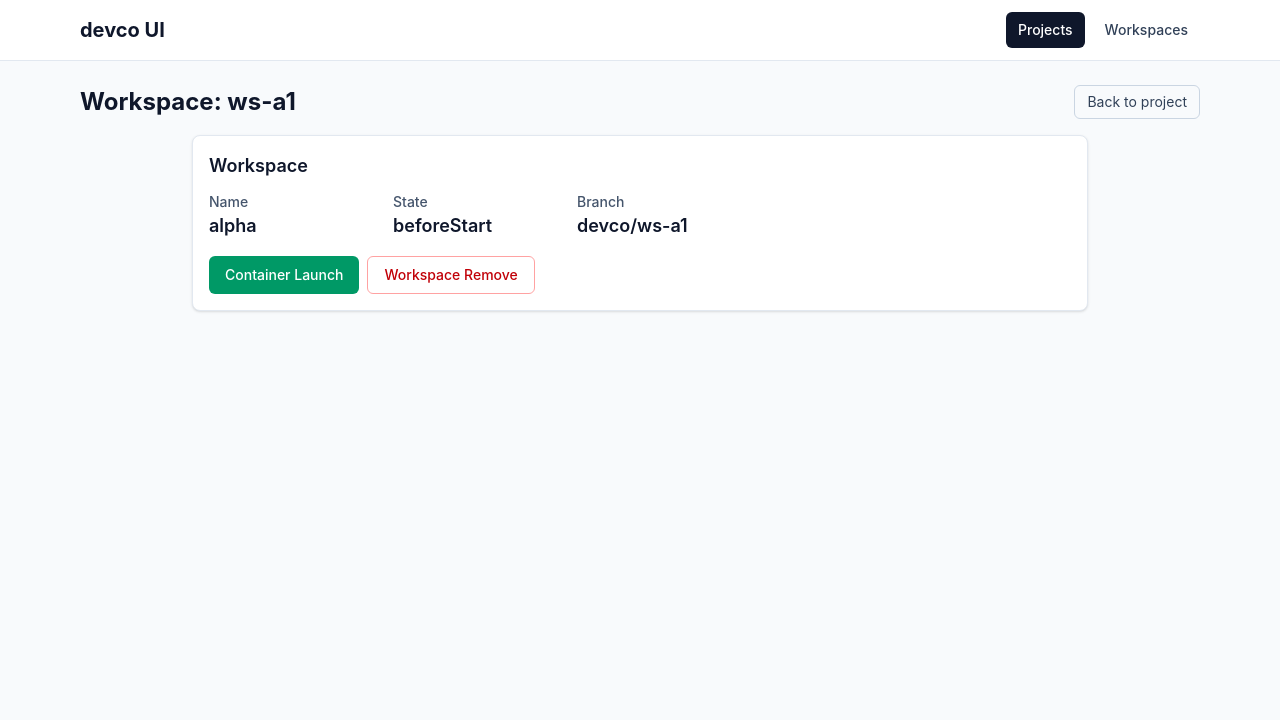
Test: App browser flows › shows confirmation dialog before workspace removal in detail
Expected: the heading "Workspace: ws-a1" is shown, top-left (80, 86), bottom-right (296, 118)
Click the button "Workspace Remove".
click(451, 275)  # box top-left (368, 256), bottom-right (535, 294)
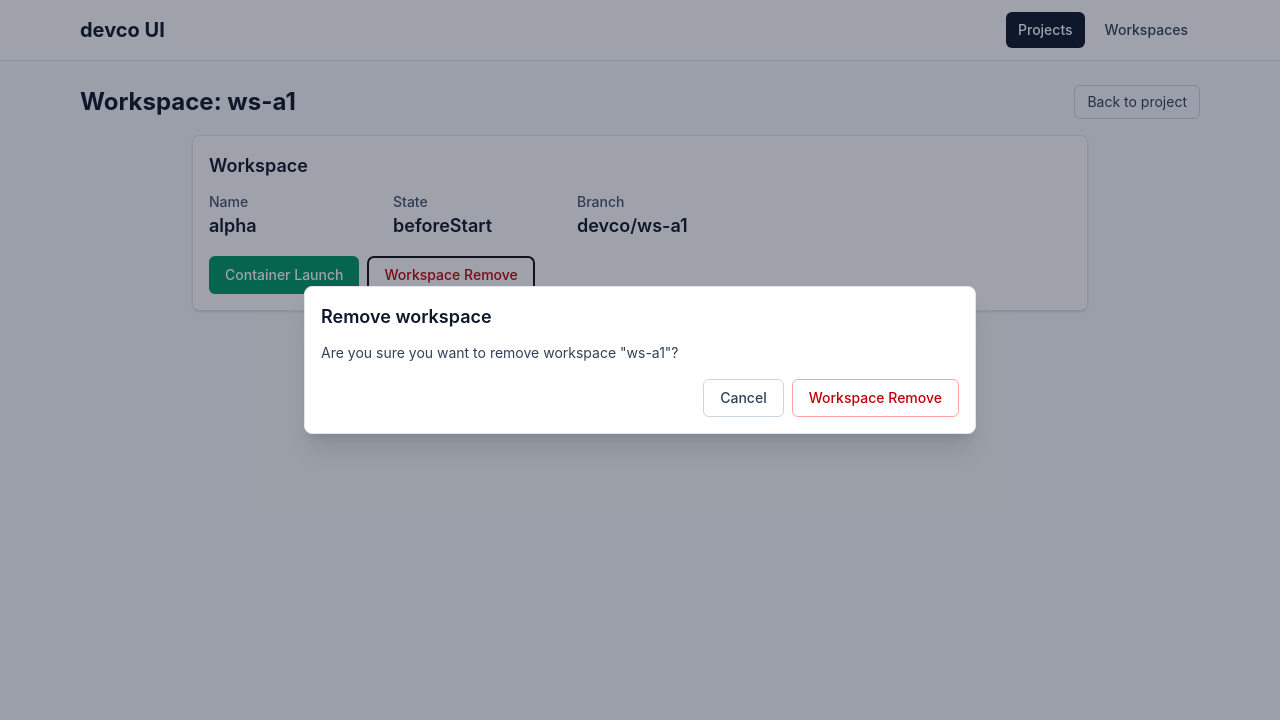
Click the button "Cancel".
click(743, 398)  # box top-left (703, 379), bottom-right (784, 417)
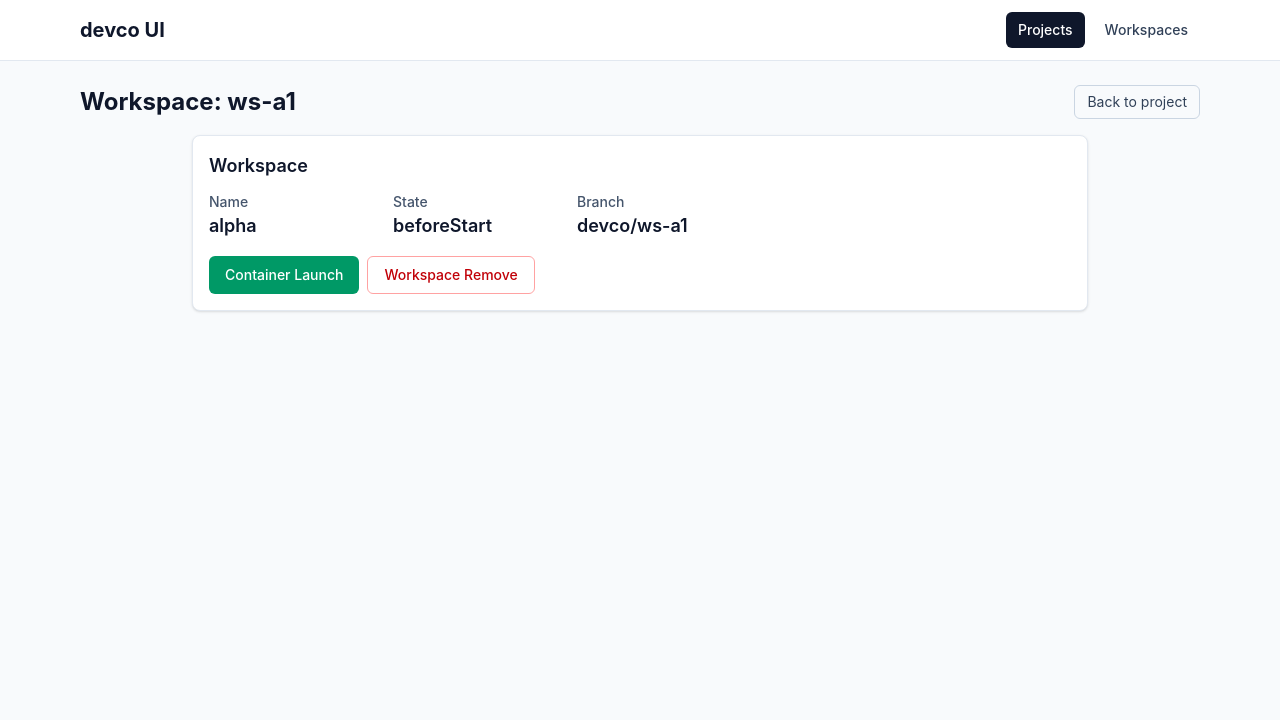
Expected: the heading "Remove workspace" is gone
